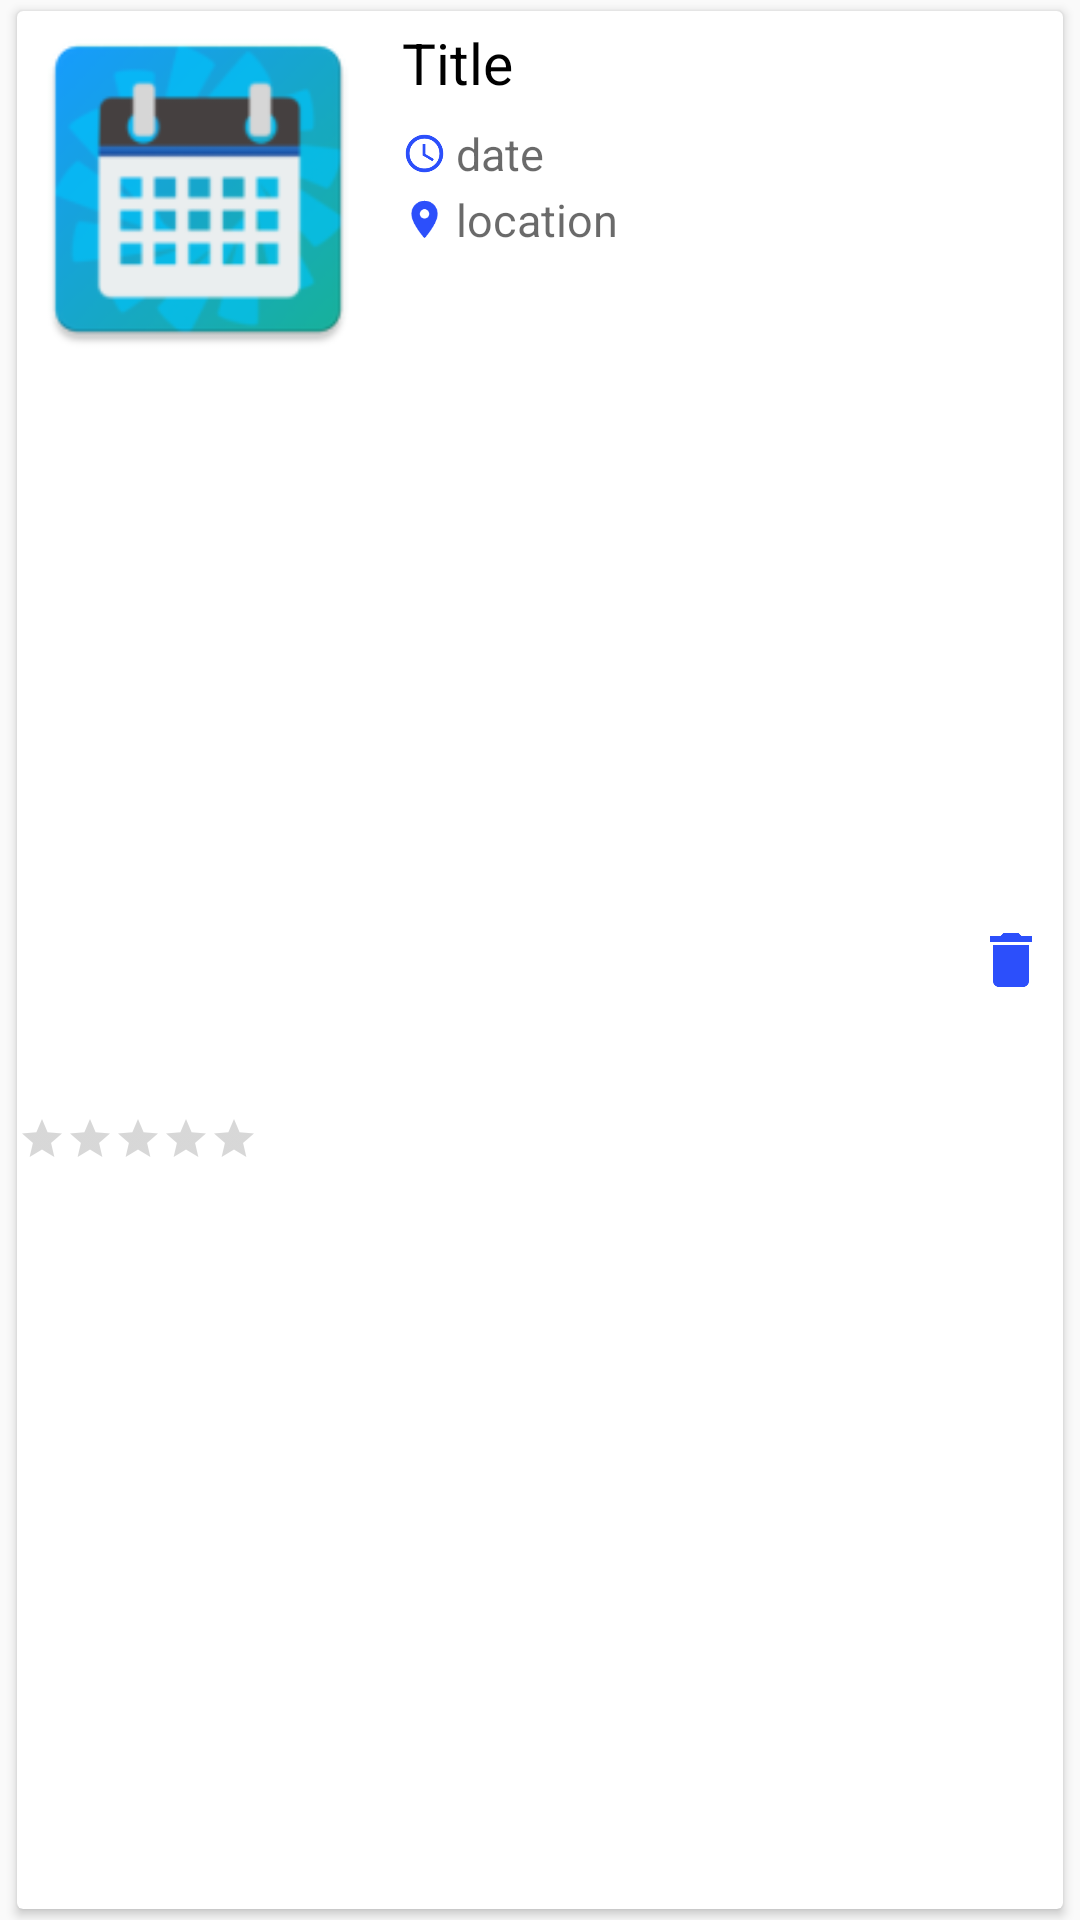

Icons on this 1080x1920 Android screen, each with the point to tap as (x,y):
access time: (424,153)
